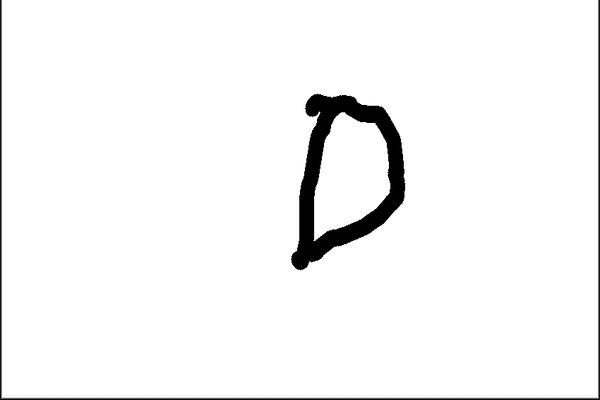D: (283, 89, 411, 272)
